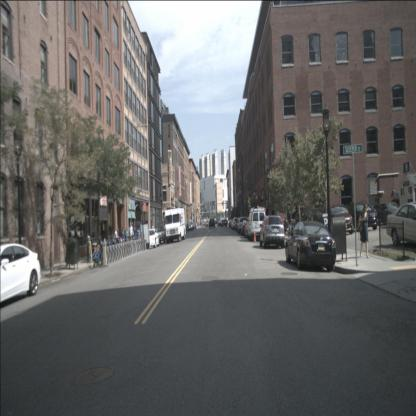cone: (252, 231, 256, 242)
